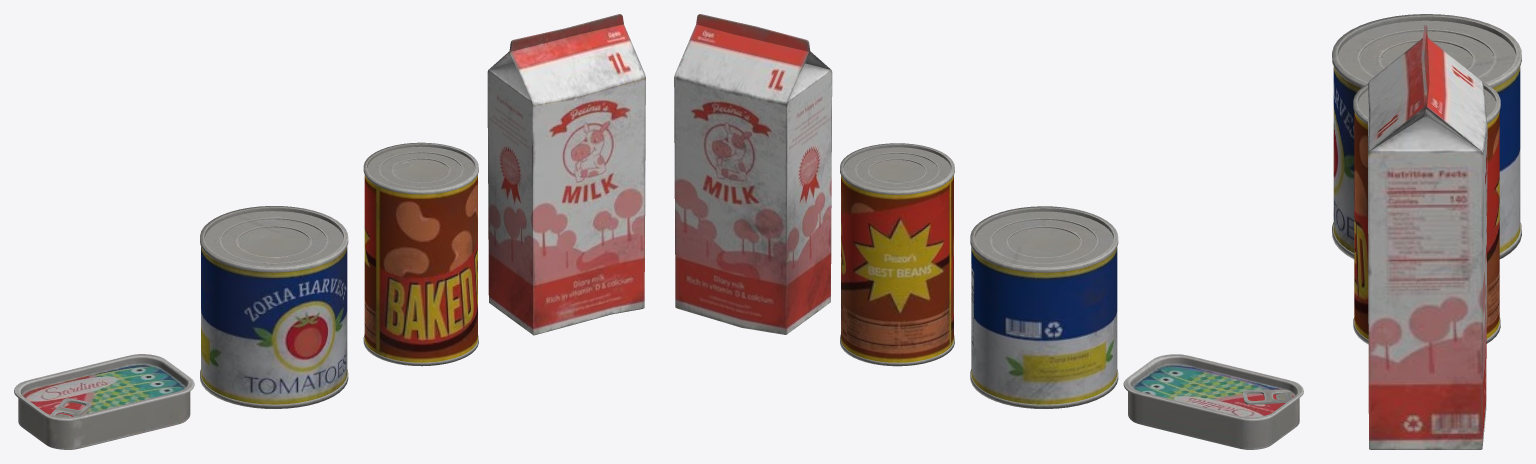
File: long_life_food.glb
3 views of the same model, side by side, from view 1: azimuth 30°, elevation 25°; view 2: azimuth 150°, elevation 25°; view 3: azimuth 270°, elevation 25° (orthographic). The views are drawn at different scales.
Parts seen in each view (by area): view 1: long_life_food_milk, long_life_food_tomatoes, long_life_food_beans, long_life_food_sardines; view 2: long_life_food_milk, long_life_food_tomatoes, long_life_food_beans, long_life_food_sardines; view 3: long_life_food_milk, long_life_food_tomatoes, long_life_food_beans.
Part boxes in pixels (left/top/right/bottom): long_life_food_milk: left=487, top=14, right=645, bottom=335; long_life_food_tomatoes: left=200, top=206, right=348, bottom=408; long_life_food_beans: left=363, top=142, right=478, bottom=366; long_life_food_sardines: left=14, top=354, right=194, bottom=449; long_life_food_milk: left=674, top=14, right=832, bottom=334; long_life_food_tomatoes: left=970, top=206, right=1118, bottom=408; long_life_food_beans: left=840, top=143, right=954, bottom=366; long_life_food_sardines: left=1123, top=354, right=1303, bottom=449; long_life_food_milk: left=1368, top=25, right=1487, bottom=449; long_life_food_tomatoes: left=1332, top=14, right=1521, bottom=259; long_life_food_beans: left=1353, top=81, right=1500, bottom=344.
Bounding box in the file's own units: 0.5238 × 0.2376 × 0.1136.
Materials: 1 (1 with a texture image).
